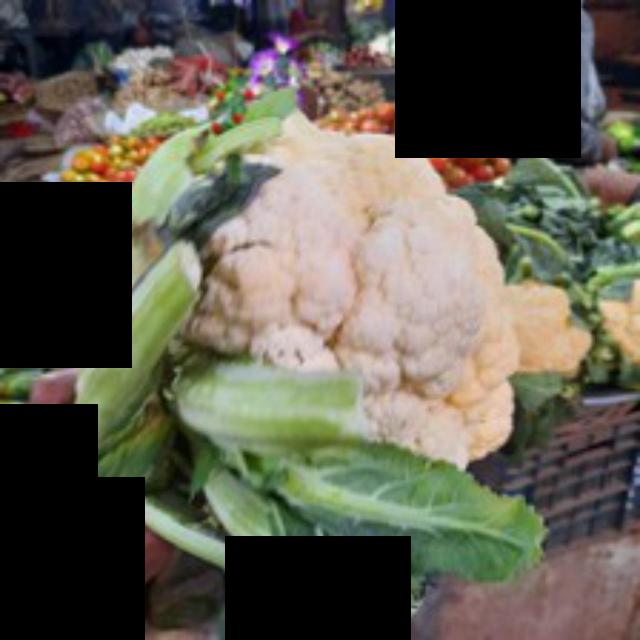cauliflower: (96, 101, 532, 491)
